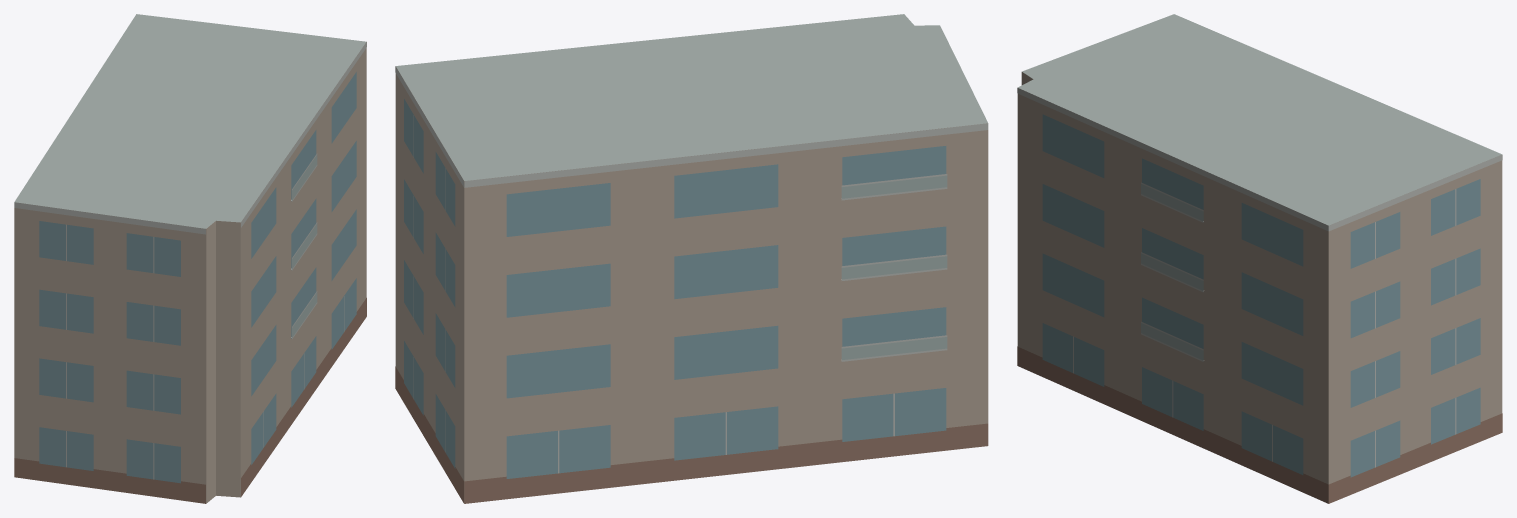
The model's file is survey-upis-32596680.glb.
3 renders of one model, left to right at view 1: azimuth 30°, elevation 25°; view 2: azimuth 150°, elevation 25°; view 3: azimuth 270°, elevation 25°, orthographic. The views are drawn at different scales.
Parts seen in each view (by area): view 1: survey-upis-32596680.tmp; view 2: survey-upis-32596680.tmp; view 3: survey-upis-32596680.tmp.
Part boxes in pixels (<box>): survey-upis-32596680.tmp: <box>14,14,366,503</box>; survey-upis-32596680.tmp: <box>395,14,988,503</box>; survey-upis-32596680.tmp: <box>1017,14,1502,503</box>.
Bounding box in the file's own units: 19.1 × 11.7 × 18.49.
